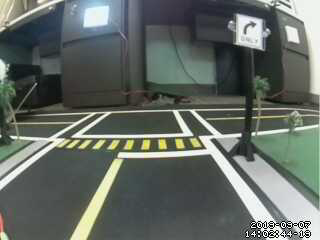Right_only_sign: (236, 13, 266, 49)
